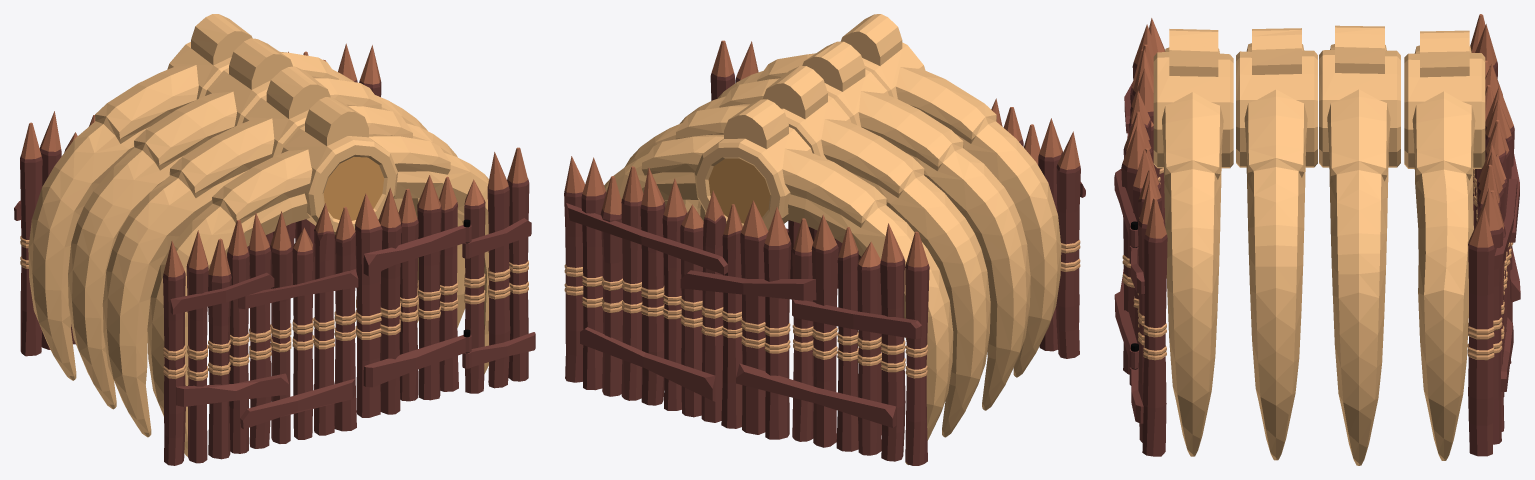
The model's file is Ork Prison 01.fbx.
3 renders of one model, left to right at view 1: azimuth 30°, elevation 25°; view 2: azimuth 150°, elevation 25°; view 3: azimuth 270°, elevation 25°, orthographic. The views are drawn at different scales.
Visible parts, largest first — view 1: Ork Prison 01, Ork Prison Doors 01; view 2: Ork Prison 01; view 3: Ork Prison 01, Ork Prison Doors 01.
Part boxes in pixels (<box>): Ork Prison 01: <box>14,14,535,465</box>; Ork Prison Doors 01: <box>355,175,471,417</box>; Ork Prison 01: <box>564,14,1085,465</box>; Ork Prison 01: <box>1120,14,1520,465</box>; Ork Prison Doors 01: <box>1114,113,1161,391</box>.
Bounding box in the file's own units: 532 × 440 × 449.
